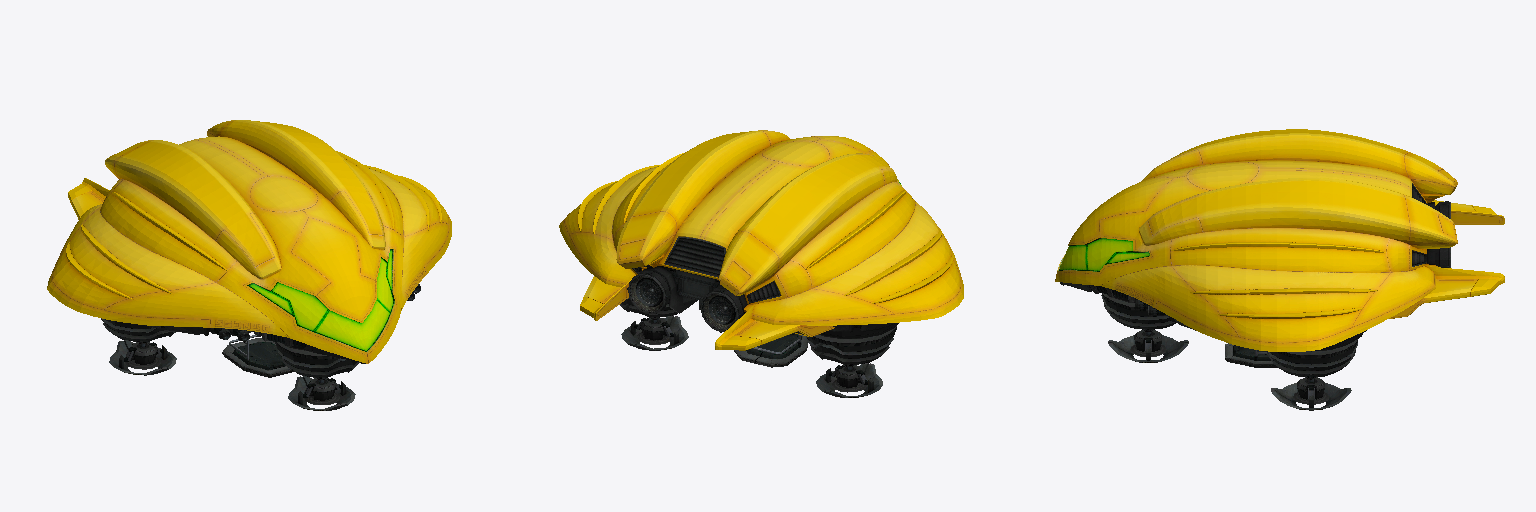
3 renders of one model, left to right at view 1: azimuth 30°, elevation 25°; view 2: azimuth 150°, elevation 25°; view 3: azimuth 270°, elevation 25°, orthographic.
Parts seen in each view (by area): view 1: polygon5, polygon8, polygon4, polygon1, polygon7; view 2: polygon5, polygon8, polygon0, polygon3, polygon7, polygon1; view 3: polygon5, polygon8, polygon4, polygon1, polygon0, polygon7.
Boxes of the visible parts, x1=… form: polygon5: x1=47, y1=120, x2=451, y2=363; polygon8: x1=101, y1=318, x2=359, y2=410; polygon4: x1=247, y1=249, x2=393, y2=351; polygon1: x1=222, y1=338, x2=293, y2=377; polygon7: x1=145, y1=325, x2=365, y2=363; polygon5: x1=559, y1=130, x2=963, y2=350; polygon8: x1=620, y1=298, x2=898, y2=397; polygon0: x1=627, y1=271, x2=742, y2=332; polygon3: x1=632, y1=237, x2=803, y2=334; polygon7: x1=641, y1=266, x2=894, y2=332; polygon1: x1=699, y1=300, x2=807, y2=367; polygon5: x1=1055, y1=129, x2=1504, y2=351; polygon8: x1=1101, y1=293, x2=1362, y2=410; polygon4: x1=1059, y1=238, x2=1149, y2=271; polygon1: x1=1225, y1=343, x2=1277, y2=367; polygon0: x1=1135, y1=201, x2=1450, y2=317; polygon7: x1=1060, y1=202, x2=1434, y2=340.
Size of the model in its own units: 13.55 by 6.75 by 13.82.
10 materials, 8 textured.